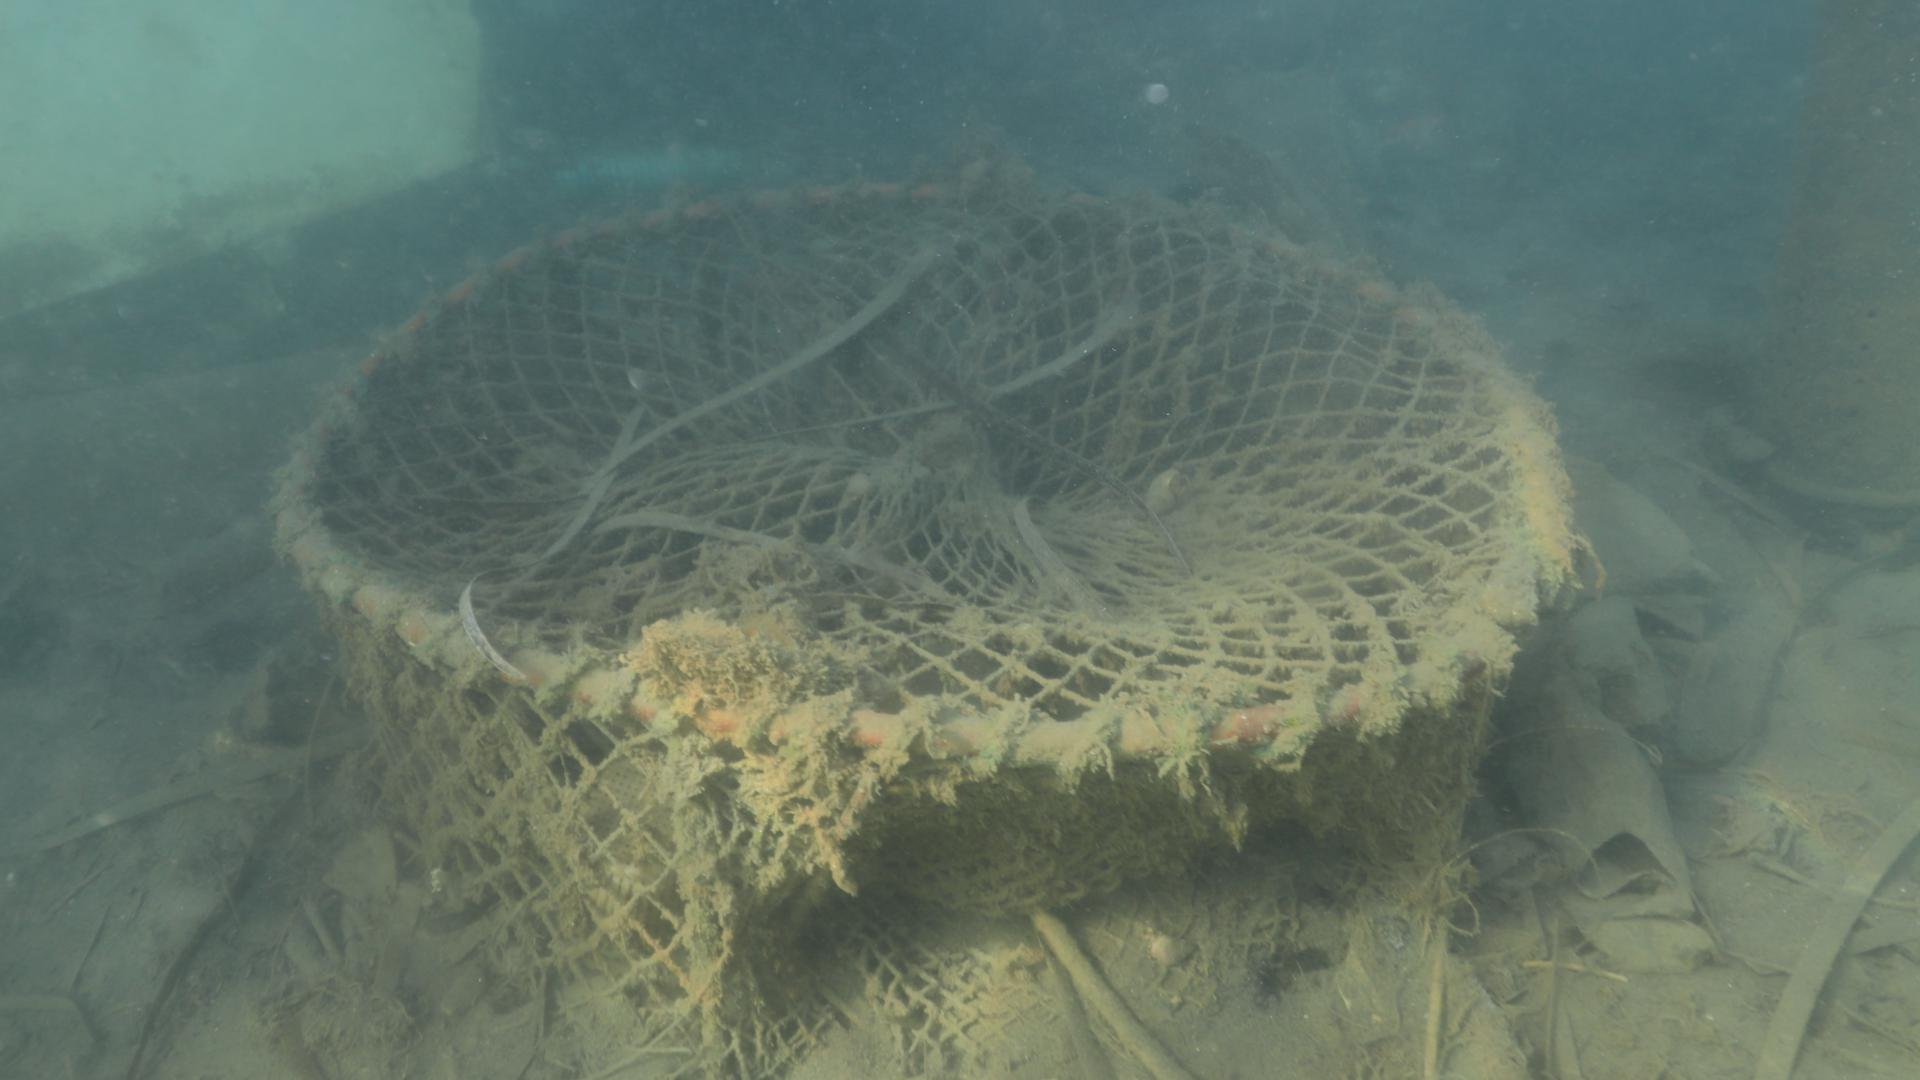circular fish trap: (264, 178, 1572, 1054)
